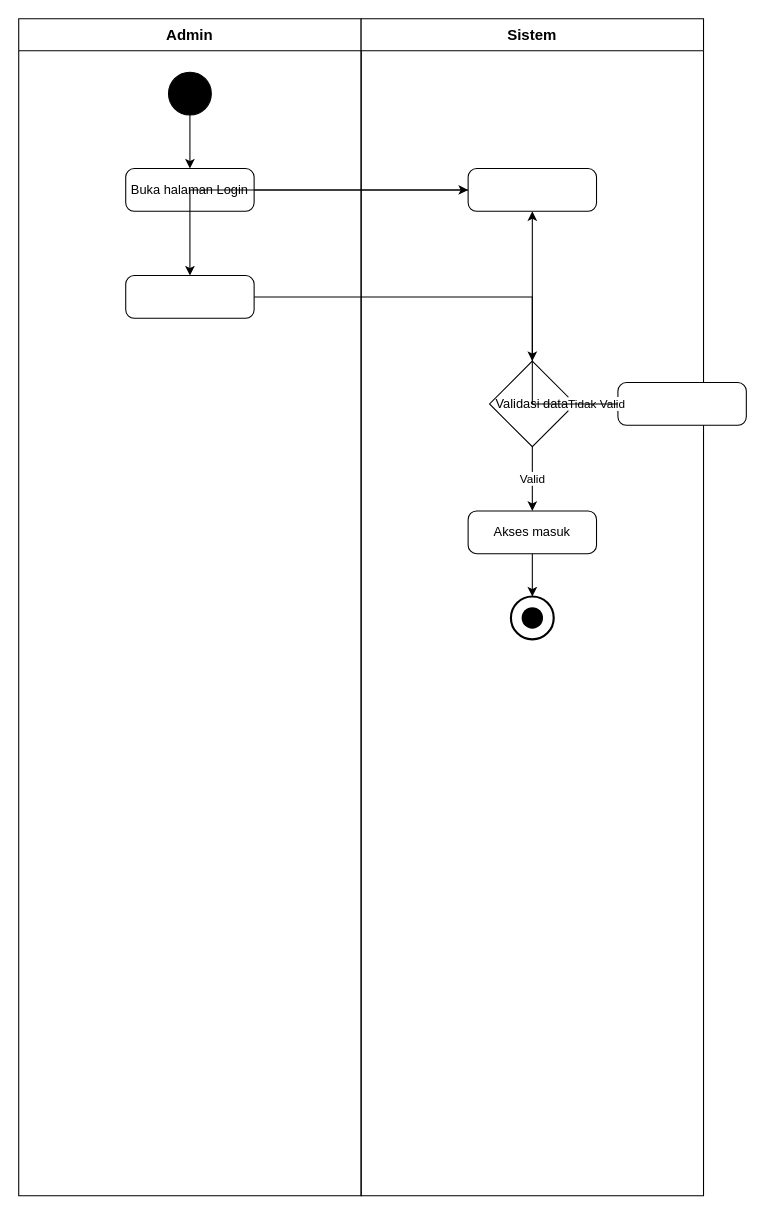
Some shapes in this 765 by 1214 pixel diagram are drawn without their labels. The centre of each missing label's shape, as x and y in pixels:
"Isi form dan submit" belongs at (189,296).
"Tampil form Login" belongs at (532,189).
"Tampil pesan error" belongs at (681,403).
